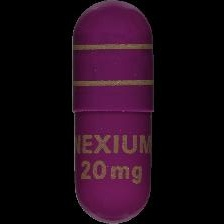69189-5020: (0, 0, 224, 224)
